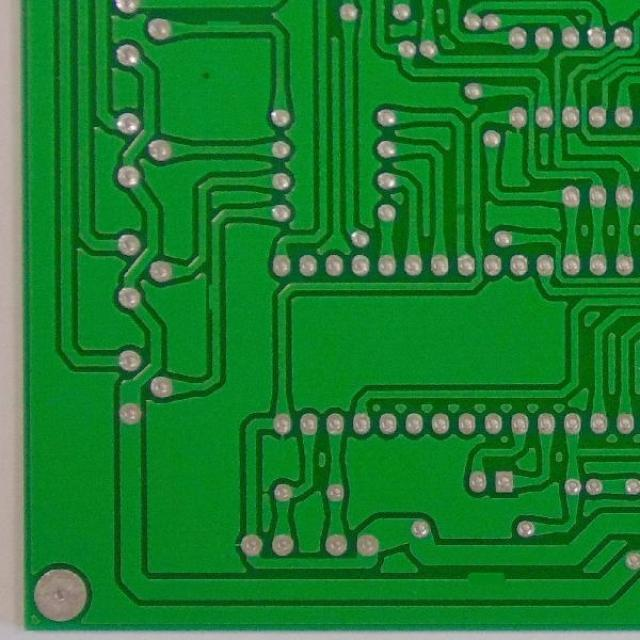Spur: (462, 568, 512, 603), (199, 17, 247, 37), (207, 276, 224, 316)
